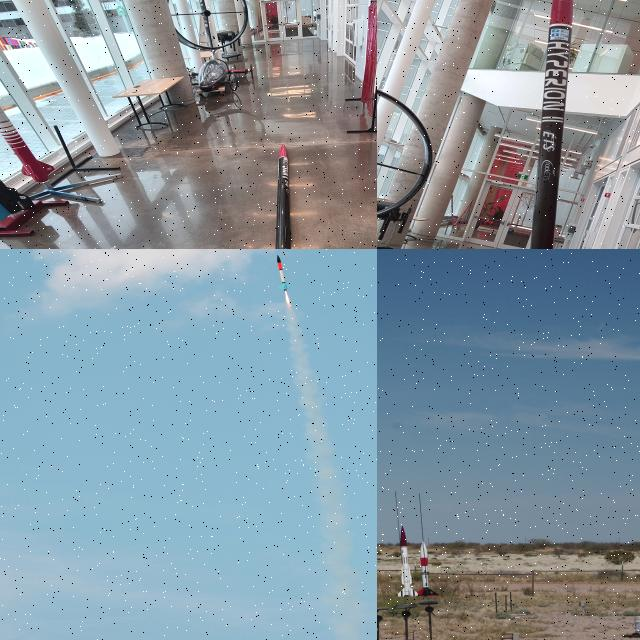Rocket: (529, 0, 573, 249), (275, 143, 291, 249), (397, 526, 418, 596), (418, 540, 439, 596), (277, 254, 292, 291)
